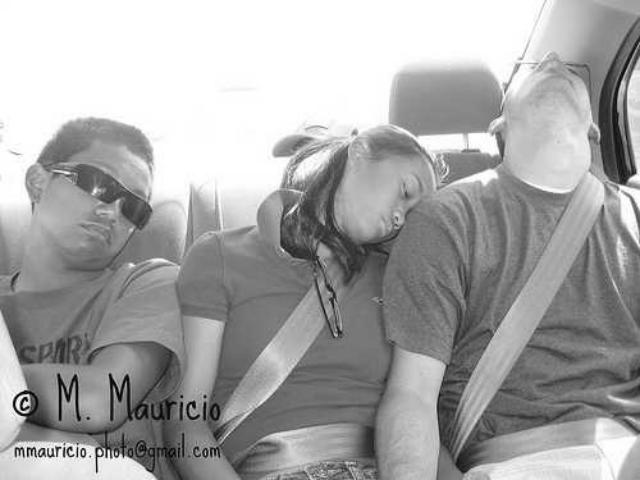Seatbelt: (442, 169, 610, 465), (212, 243, 370, 451)
